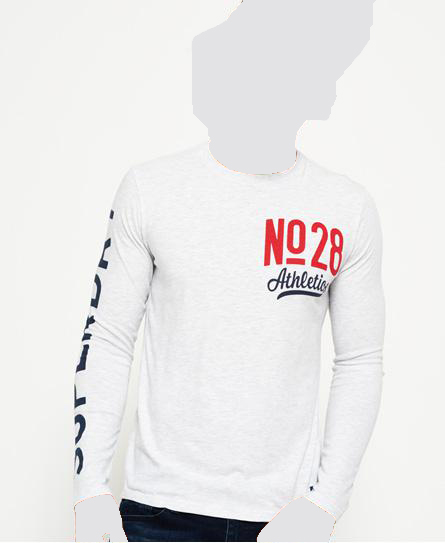teeshirt: (64, 141, 391, 523)
